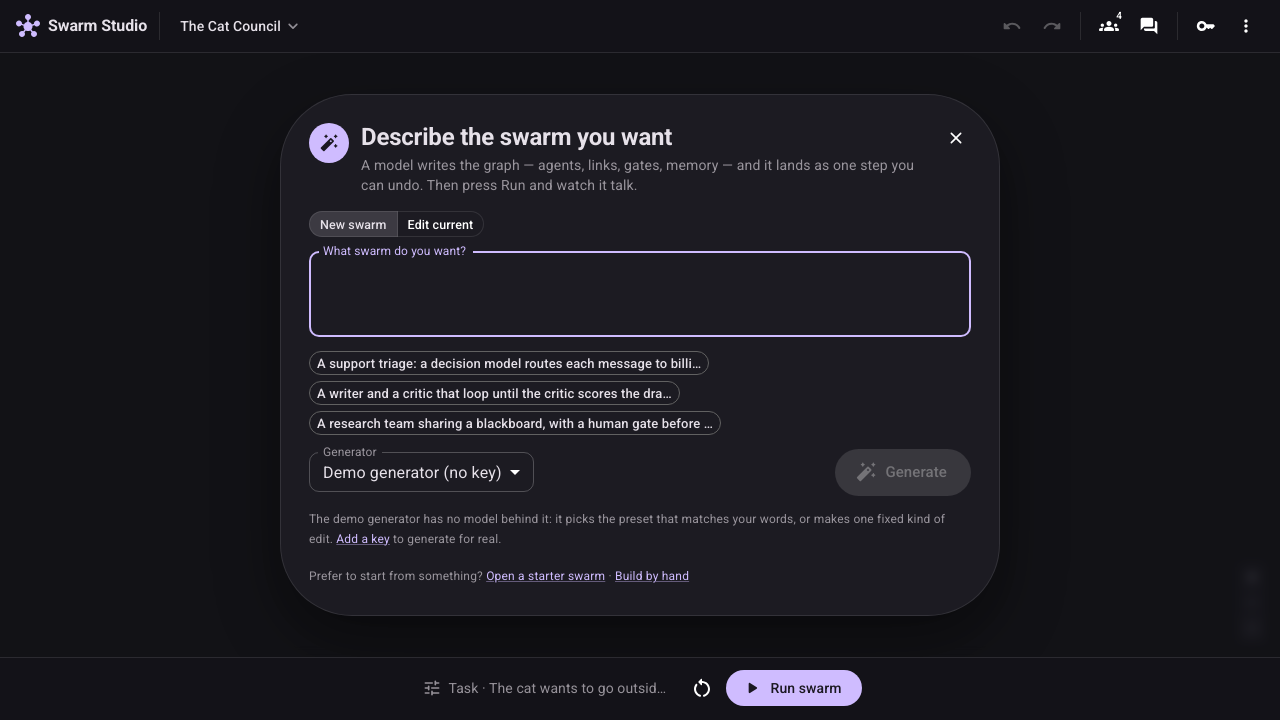
Test: once the card is closed, the docked bar takes the same ask and Enter sends it
The width and height of the screenshot is (1280, 720).
Click the button named "close the prompt" at (956, 138), box [941,123,971,153]
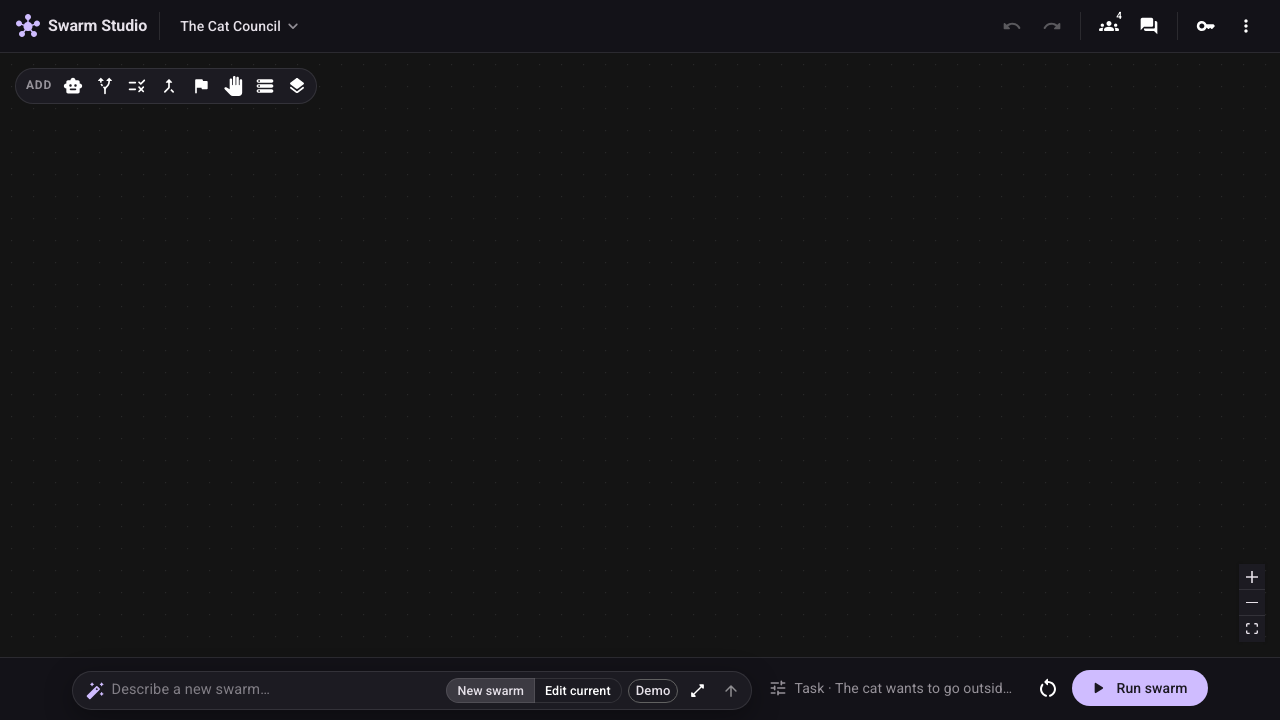
Type "A support triage where unsure answers escalate" into the text box named "describe the graph" at (276, 690), box [112,680,440,701]
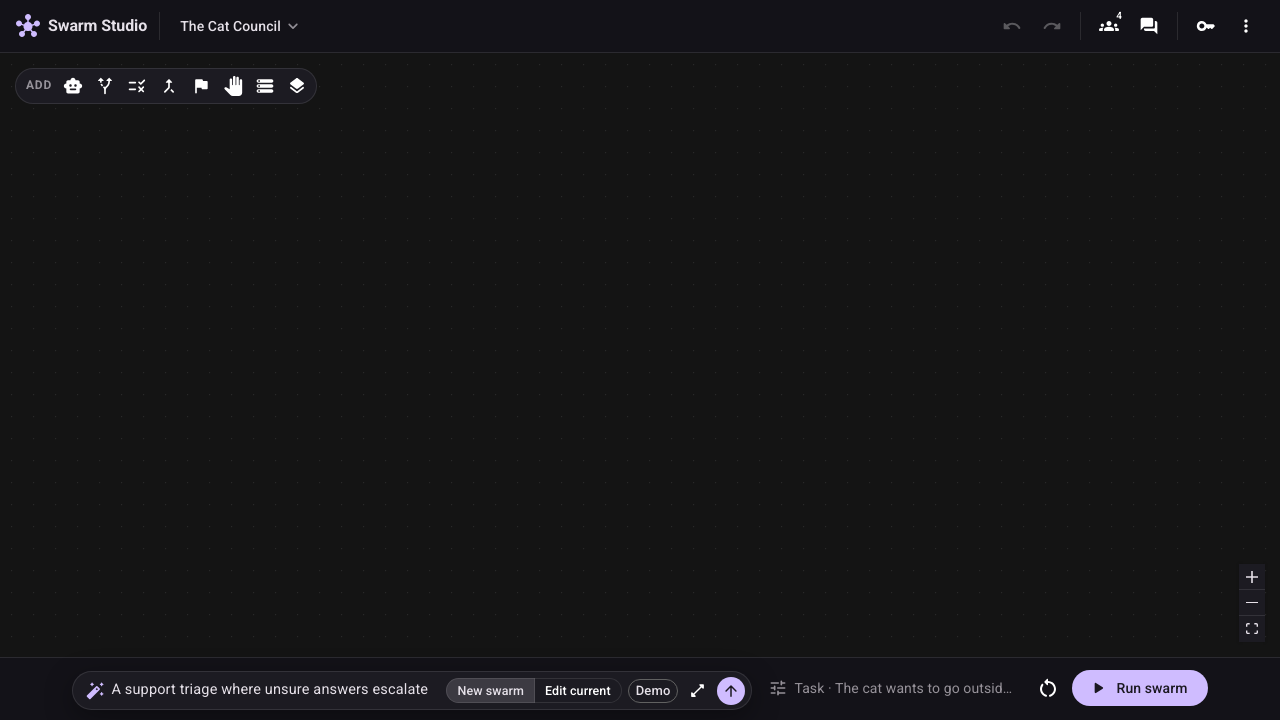
Press Enter in the text box named "describe the graph", box [112,680,440,701]
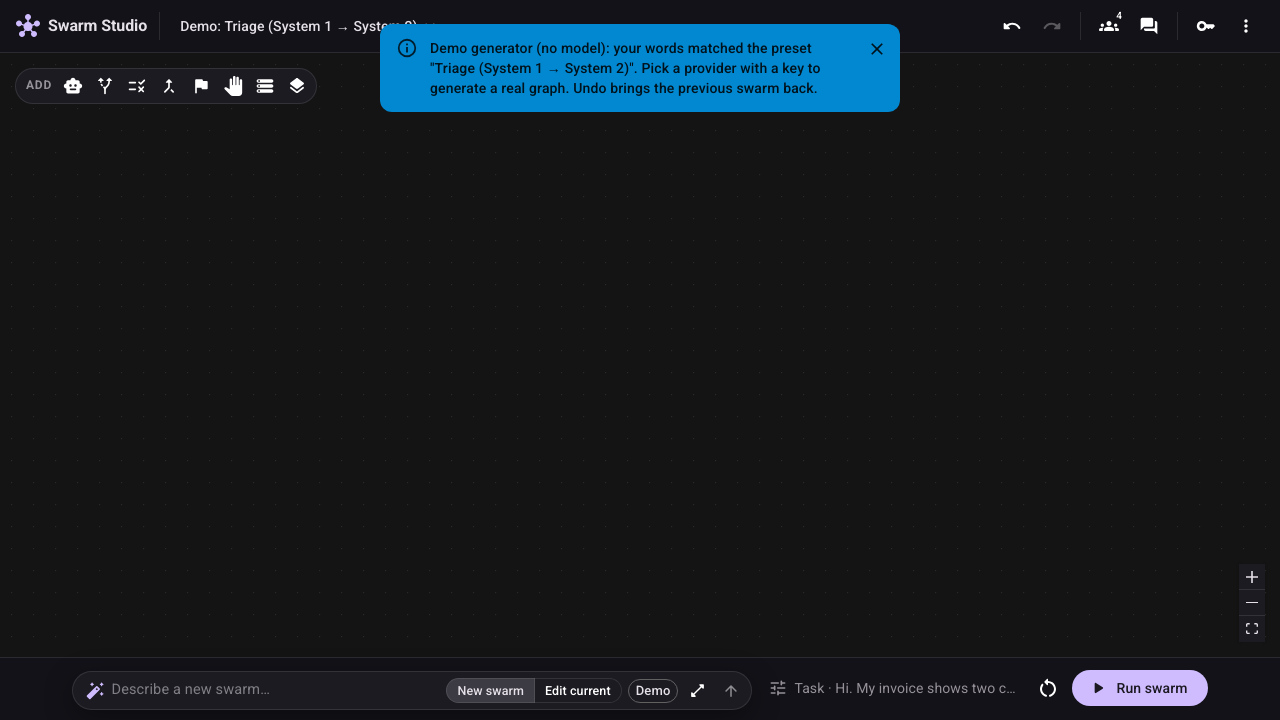
Expected: the text "Demo: Triage (System 1 → System 2)" is shown, [180,14,418,38]
